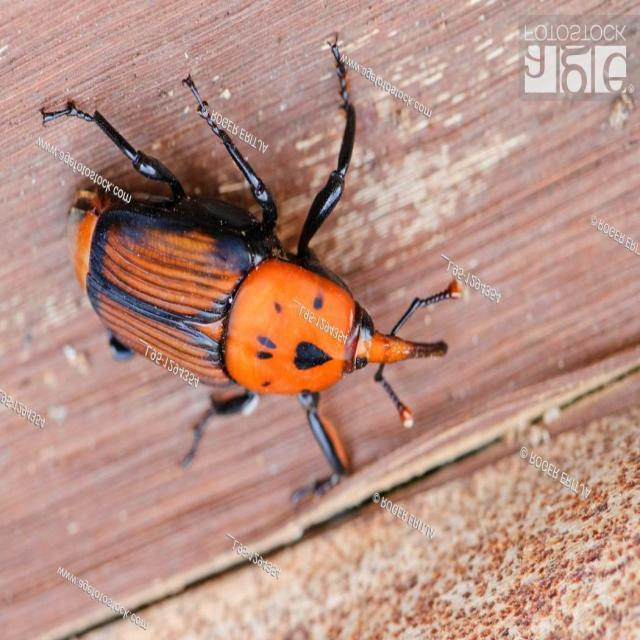Red-palm-weevil: (46, 69, 466, 475)
